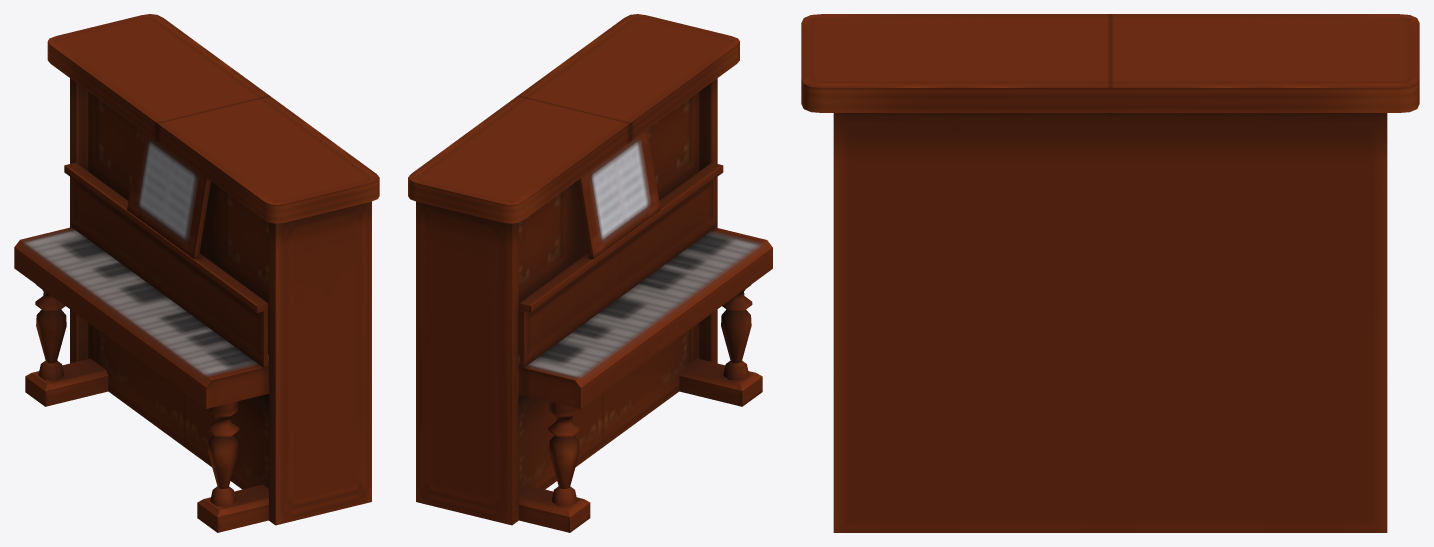
The model's file is Piano.FBX.
3 views of the same model, side by side, from view 1: azimuth 30°, elevation 25°; view 2: azimuth 150°, elevation 25°; view 3: azimuth 270°, elevation 25° (orthographic). The views are drawn at different scales.
Parts seen in each view (by area): view 1: Piano; view 2: Piano; view 3: Piano.
Part boxes in pixels (x1=…): Piano: x1=14, y1=14, x2=379, y2=532; Piano: x1=408, y1=14, x2=772, y2=532; Piano: x1=801, y1=14, x2=1419, y2=532.
Bounding box in the file's own units: 27.61 × 54.73 × 68.84.
